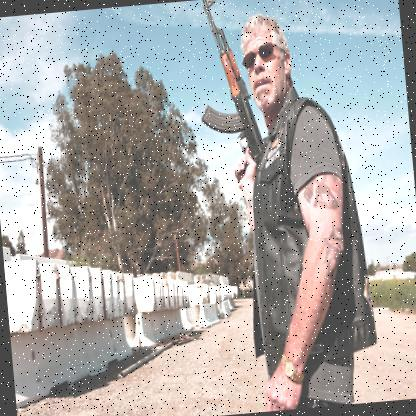rifle: (189, 0, 278, 197)
